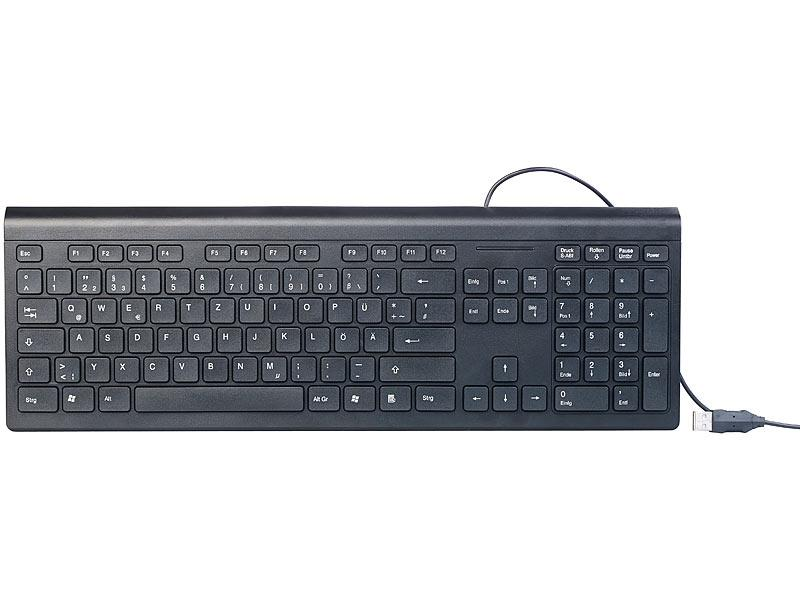0: (310, 266, 337, 292)
1: (44, 266, 71, 293)
2: (73, 266, 100, 292)
3: (103, 266, 130, 293)
4: (133, 265, 159, 292)
5: (162, 266, 189, 293)
6: (192, 266, 219, 293)
7: (222, 265, 249, 292)
8: (251, 265, 278, 293)
9: (281, 265, 307, 292)
a: (67, 325, 93, 352)
accent: (369, 266, 395, 292)
ae: (361, 324, 388, 351)
alt-left: (95, 383, 130, 411)
altgr-right: (306, 383, 339, 410)
b: (200, 354, 227, 381)
c: (141, 354, 168, 381)
caret: (14, 266, 41, 292)
comma: (289, 354, 315, 381)
d: (126, 325, 152, 352)
del: (399, 266, 454, 292)
e: (118, 295, 145, 322)
enter: (391, 324, 455, 351)
f: (155, 325, 182, 352)
g: (185, 325, 212, 351)
h: (215, 325, 241, 352)
hash: (413, 295, 455, 322)
i: (266, 295, 293, 322)
j: (244, 324, 270, 351)
k: (273, 325, 300, 351)
keyboard: (3, 230, 683, 428)
l: (303, 324, 329, 352)
less: (52, 354, 79, 381)
m: (259, 354, 285, 381)
minus: (347, 354, 374, 380)
n: (230, 354, 257, 381)
o: (295, 295, 322, 322)
oe: (332, 325, 359, 351)
p: (325, 295, 352, 322)
plus: (384, 295, 410, 322)
point: (318, 354, 345, 381)
q: (59, 295, 86, 322)
r: (148, 296, 175, 322)
s: (96, 325, 123, 352)
shift-left: (15, 355, 49, 381)
shift-lock: (15, 325, 65, 354)
shift-right: (377, 353, 454, 380)
space: (132, 383, 303, 411)
ss: (340, 266, 366, 292)
strg-left: (14, 384, 58, 411)
strg-right: (412, 383, 455, 410)
t: (178, 295, 204, 322)
tab: (14, 295, 56, 322)
u: (237, 295, 263, 322)
ue: (354, 295, 381, 322)
v: (171, 354, 198, 381)
w: (89, 296, 116, 322)
x: (112, 355, 139, 381)
y: (82, 354, 109, 381)
z: (207, 295, 234, 322)
